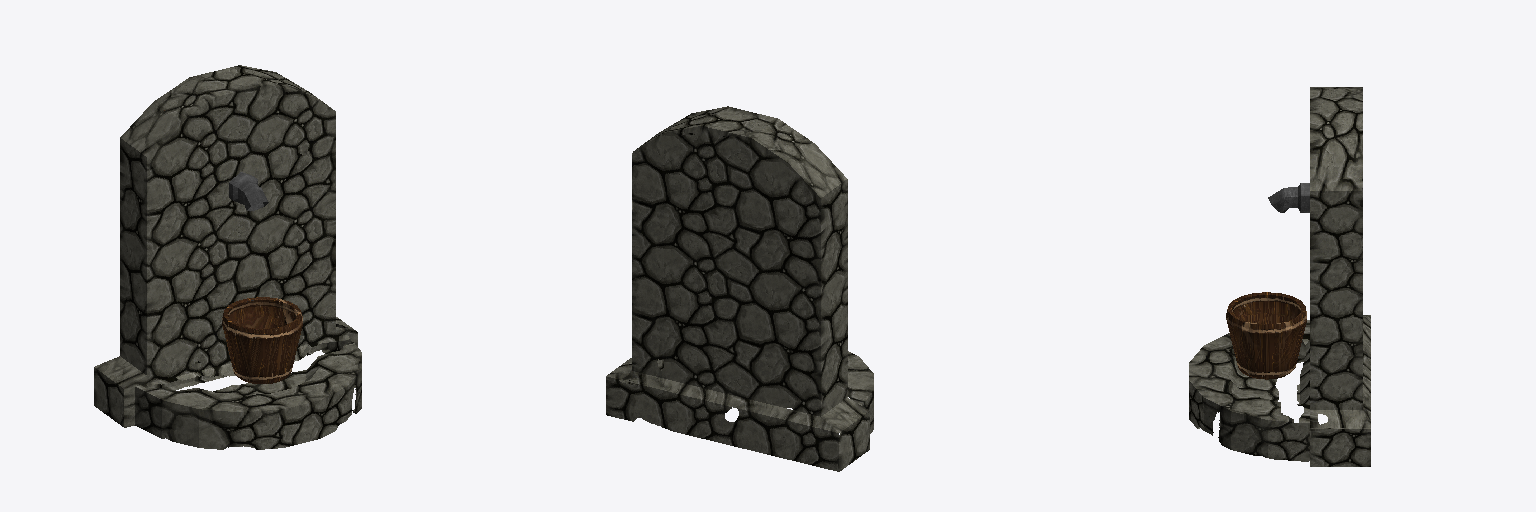
3 renders of one model, left to right at view 1: azimuth 30°, elevation 25°; view 2: azimuth 150°, elevation 25°; view 3: azimuth 270°, elevation 25°, orthographic.
Visible parts, largest first — view 1: polySurface18; view 2: polySurface18; view 3: polySurface18.
Part boxes in pixels (left/top/right/bottom): polySurface18: left=94, top=65, right=361, bottom=449; polySurface18: left=606, top=106, right=873, bottom=471; polySurface18: left=1189, top=87, right=1370, bottom=466.
Bounding box in the file's own units: 1.2 × 1.52 × 0.8091.
Materials: 1 (1 with a texture image).